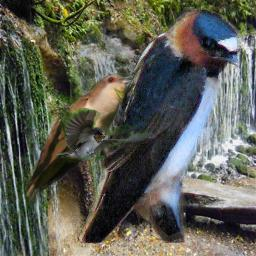Cuckoo: (20, 73, 134, 207)
Swallow: (70, 7, 241, 243), (55, 108, 154, 160)
